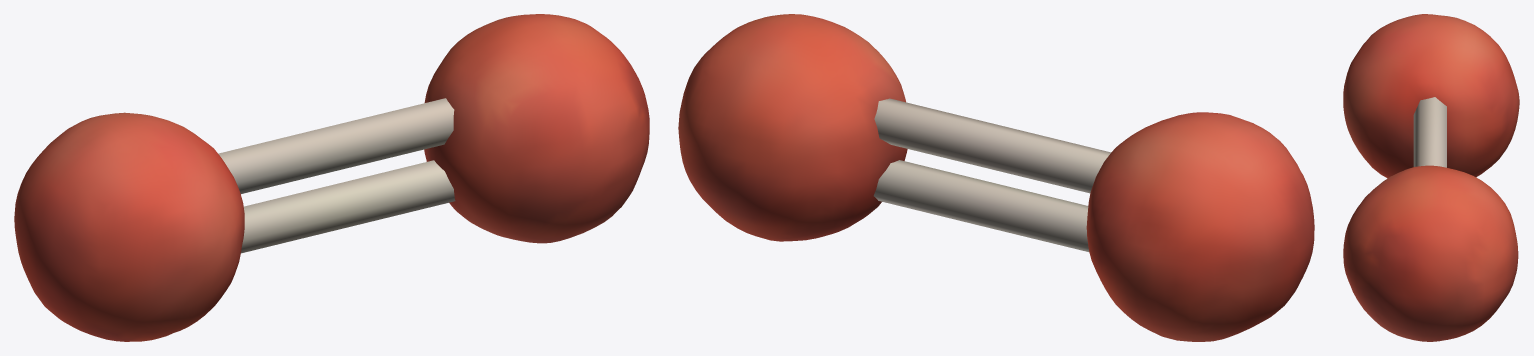
3 renders of one model, left to right at view 1: azimuth 30°, elevation 25°; view 2: azimuth 150°, elevation 25°; view 3: azimuth 270°, elevation 25°, orthographic. The views are drawn at different scales.
Visible parts, largest first — view 1: o2-oxygen, o2-bonds; view 2: o2-oxygen, o2-bonds; view 3: o2-oxygen, o2-bonds.
Part boxes in pixels (x1=…): o2-oxygen: x1=14, y1=14, x2=649, y2=341; o2-bonds: x1=218, y1=98, x2=455, y2=253; o2-oxygen: x1=678, y1=14, x2=1314, y2=341; o2-bonds: x1=873, y1=98, x2=1110, y2=251; o2-oxygen: x1=1343, y1=14, x2=1519, y2=341; o2-bonds: x1=1413, y1=97, x2=1446, y2=167.
Size of what is drawn, in the model's own units: 1.07 by 0.3535 by 0.3545.
